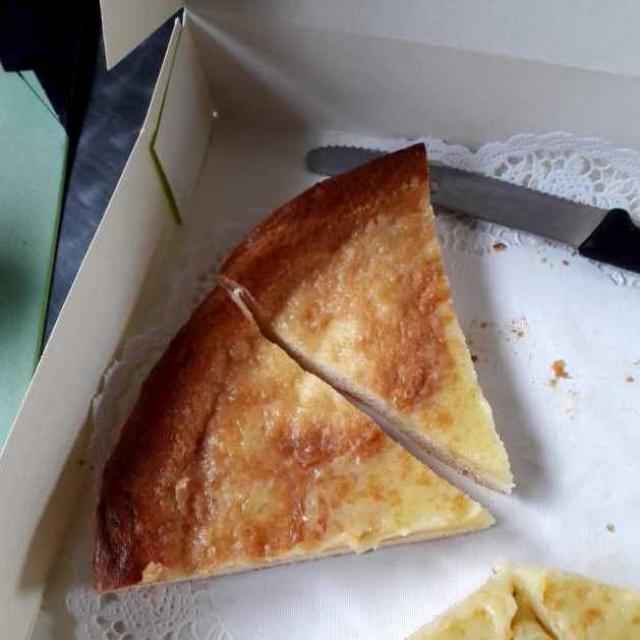quiche: (101, 273, 501, 606)
